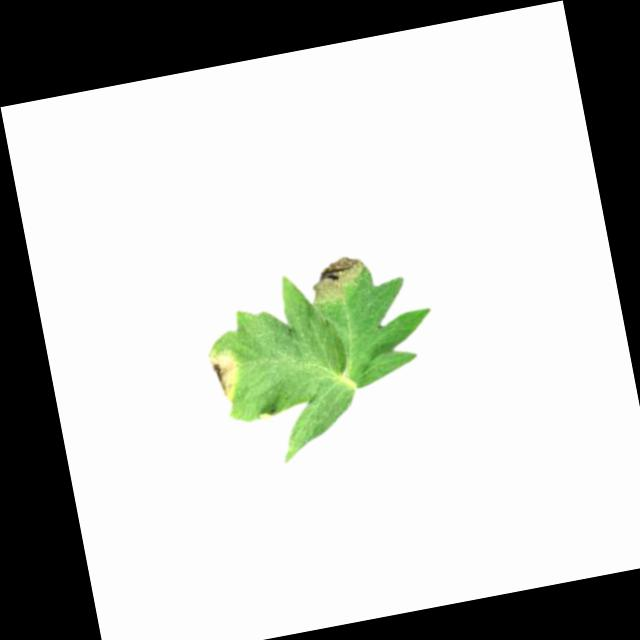Late_blight: (305, 251, 374, 308), (206, 349, 246, 406)
